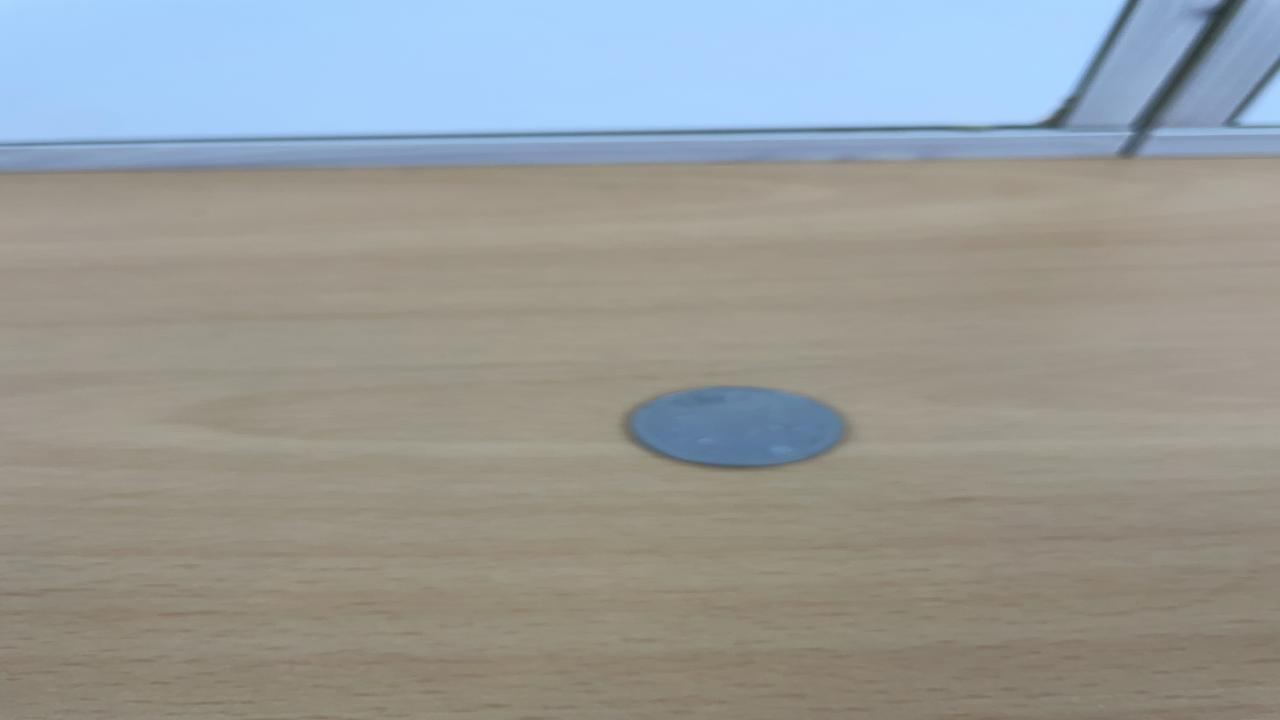coin: (622, 382, 855, 470)
